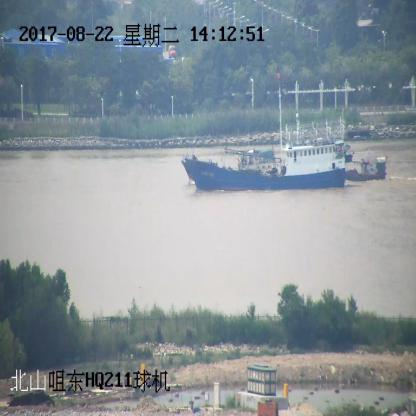Fishing Boat: (181, 73, 354, 192), (342, 153, 387, 182)
